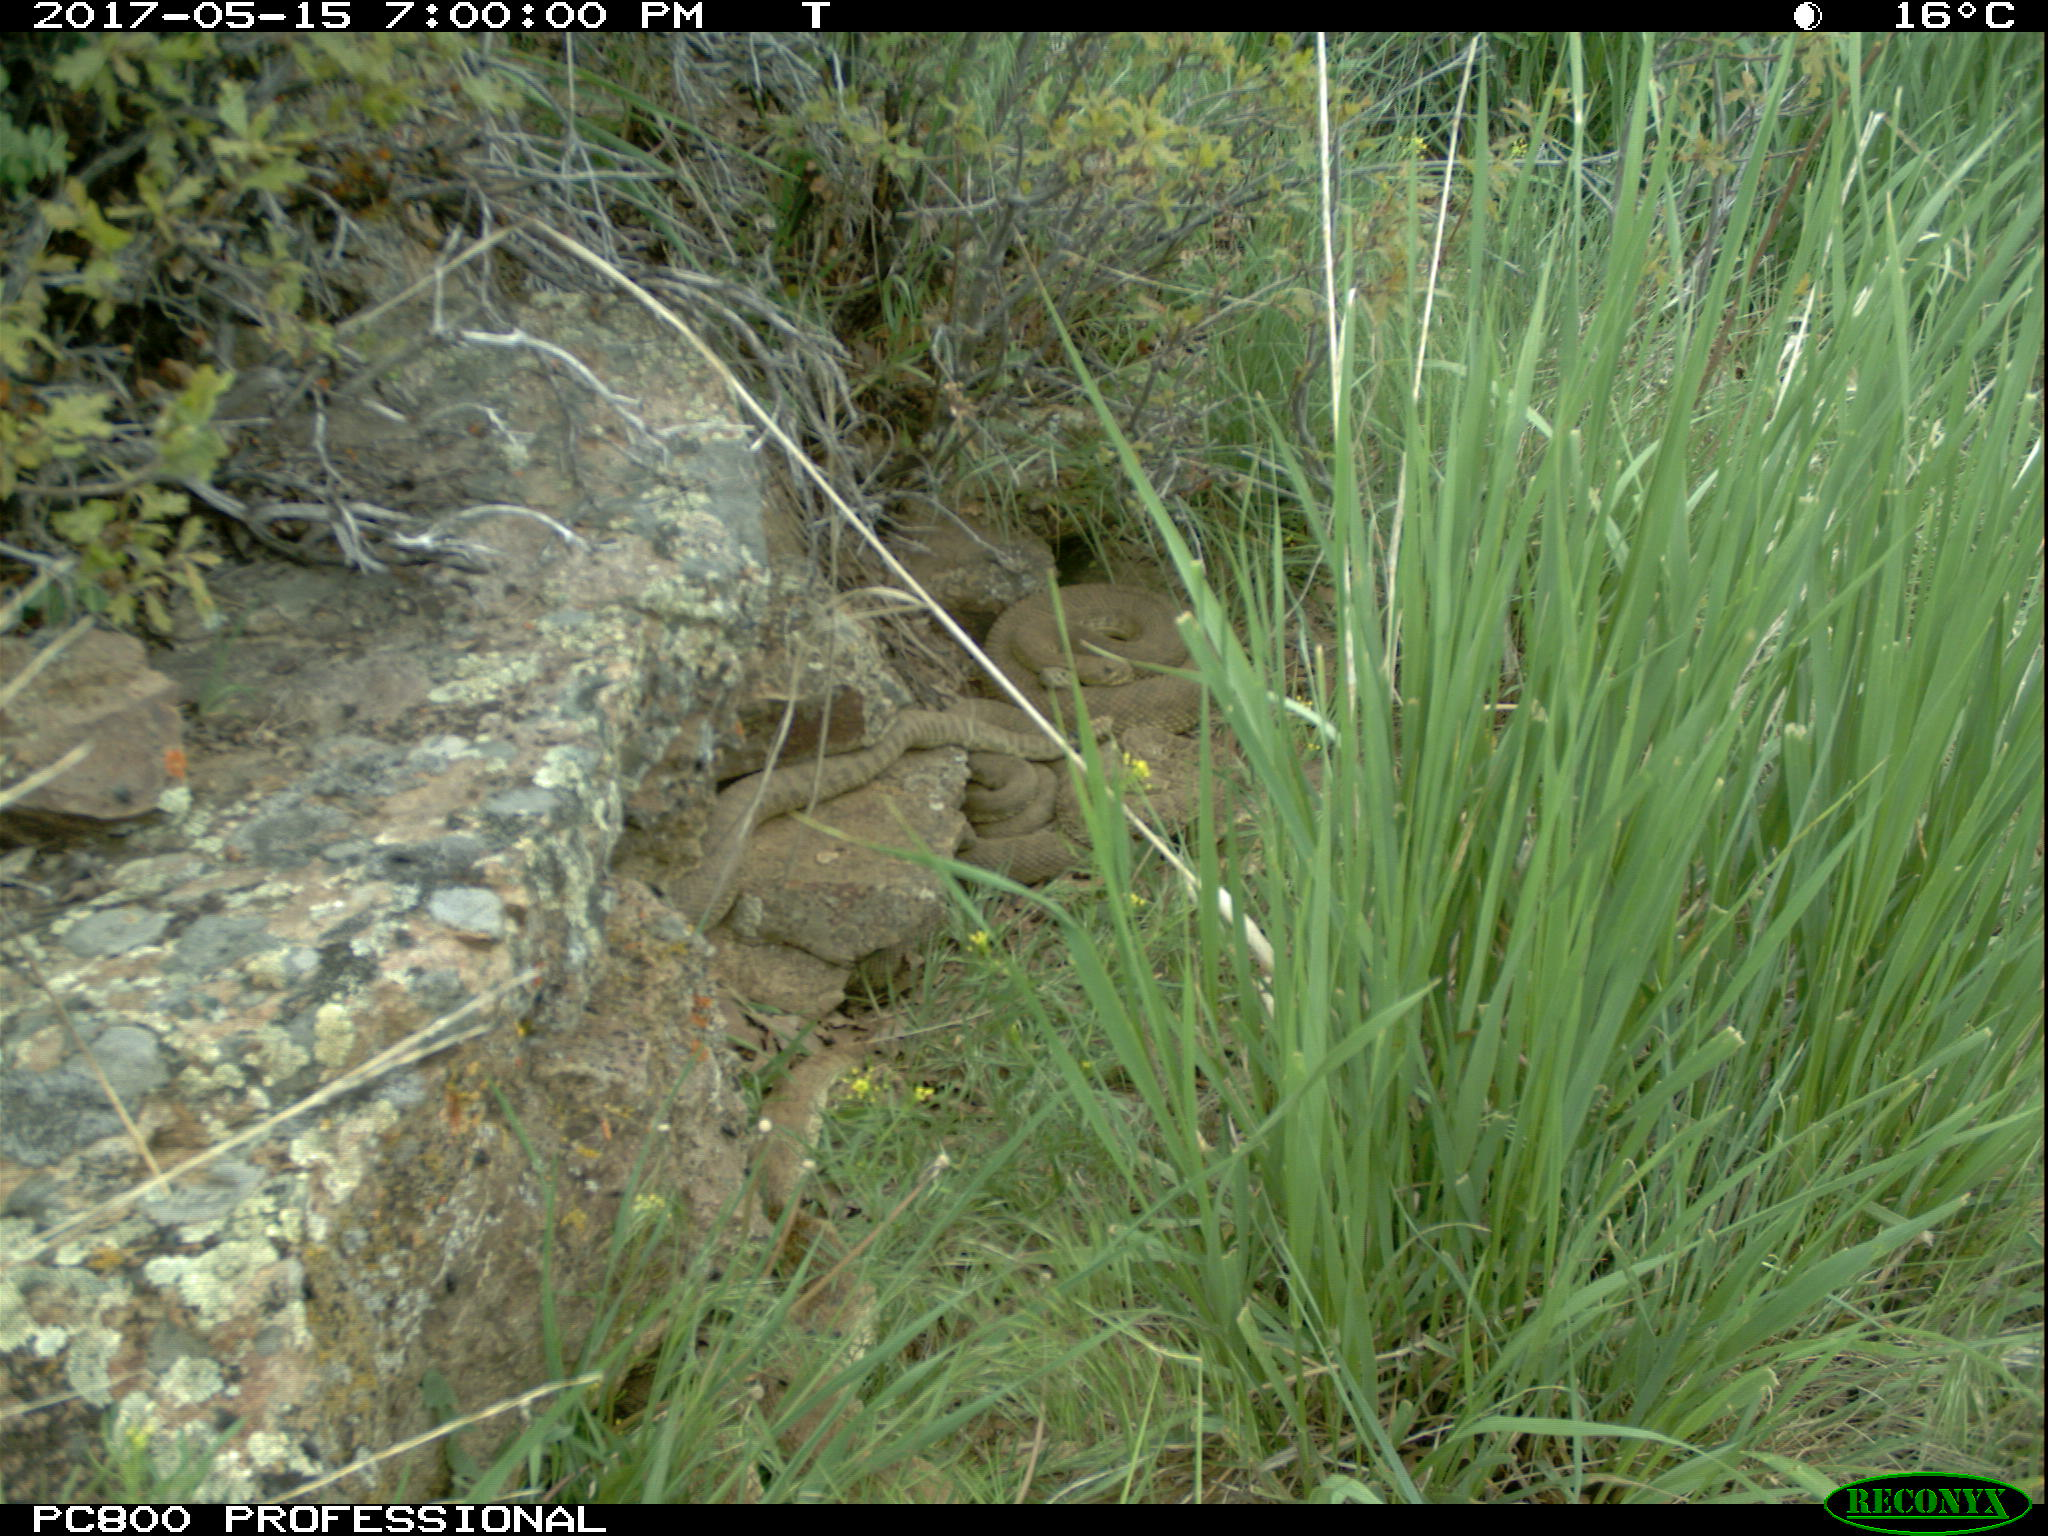snake: (756, 1058, 868, 1489), (980, 578, 1206, 726), (729, 712, 1119, 779), (961, 753, 1085, 884), (1077, 736, 1247, 828), (681, 791, 747, 942), (731, 758, 860, 807)
